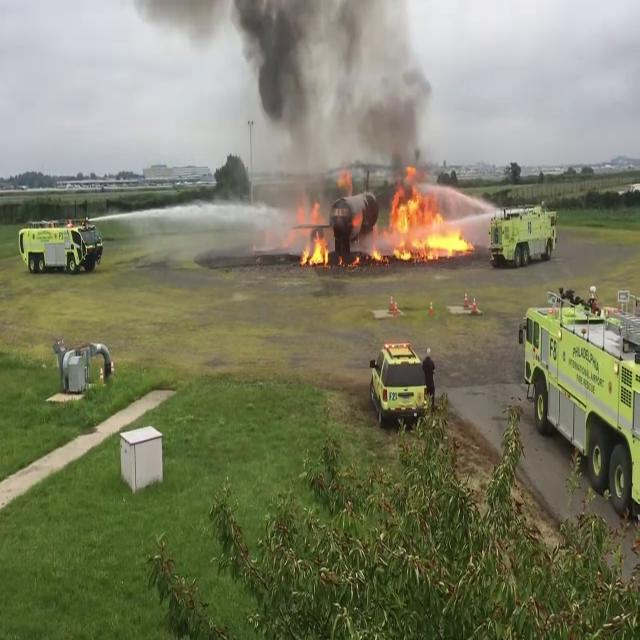Fire: (376, 170, 476, 262), (300, 221, 332, 271)
Smoke: (138, 0, 440, 185)
